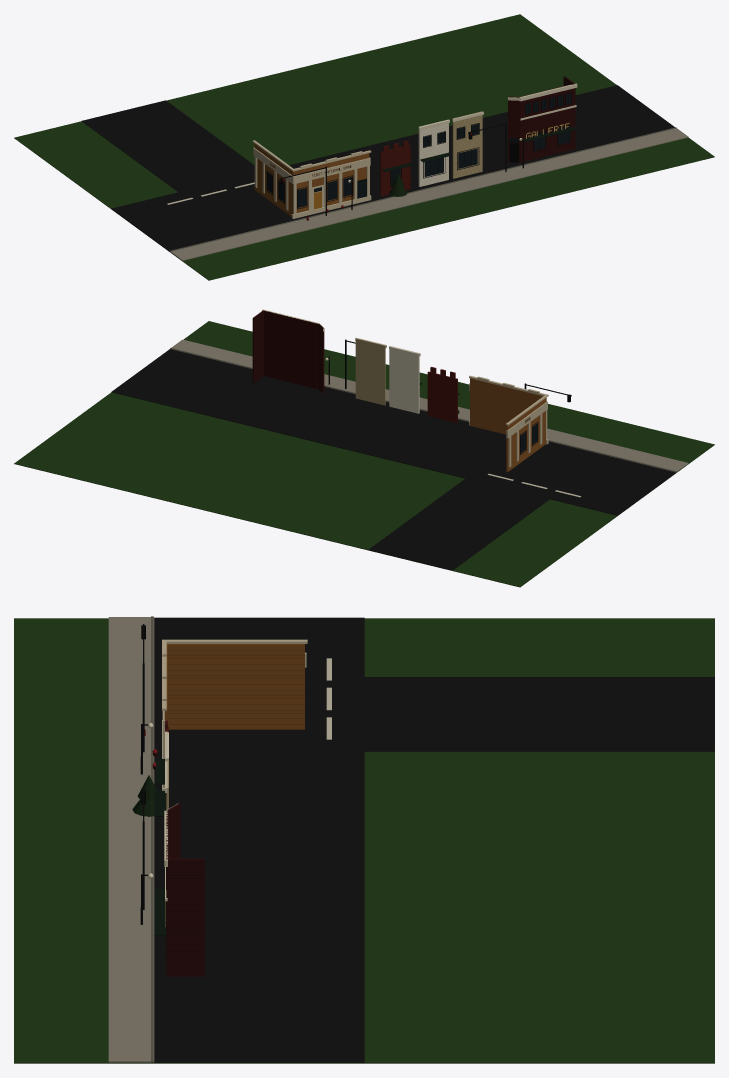
The model's file is RossvilleDowntown2.obj.
3 views of the same model, one above another, from view 1: azimuth 30°, elevation 25°; view 2: azimuth 150°, elevation 25°; view 3: azimuth 270°, elevation 25° (orthographic). The views are drawn at different scales.
Parts seen in each view (by area): view 1: RossvilleDowntown2; view 2: RossvilleDowntown2; view 3: RossvilleDowntown2.
Boxes of the visible parts, x1,y1,x2,y2 form: RossvilleDowntown2: [14, 14, 714, 280]; RossvilleDowntown2: [14, 309, 714, 587]; RossvilleDowntown2: [14, 616, 714, 1063].
Size of the model in its own units: 60 by 7.48 by 40.
